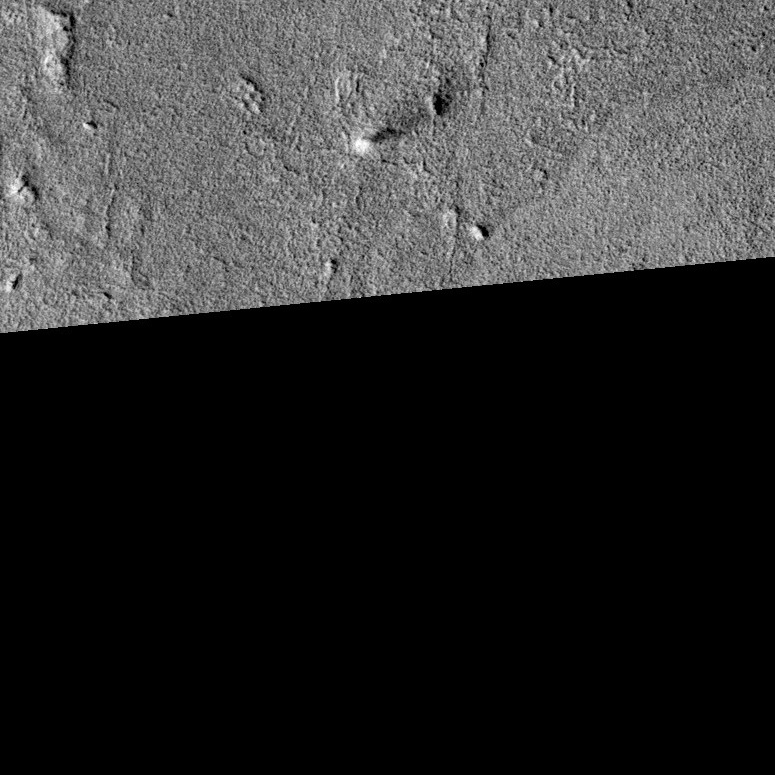dust_devil: (351, 122, 409, 160)
